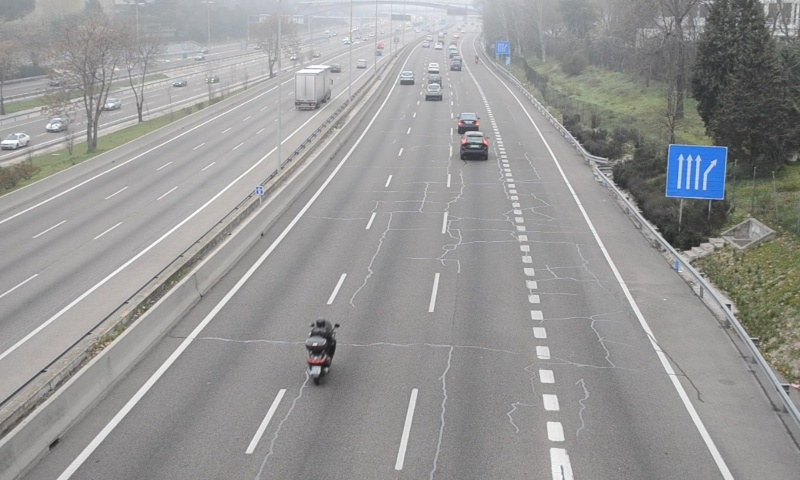car: (459, 131, 490, 158), (456, 112, 479, 132), (424, 82, 443, 100)
motorcycle: (304, 316, 339, 382)
